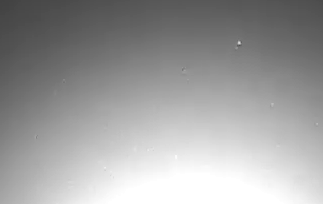Target: (64, 42, 317, 168)
